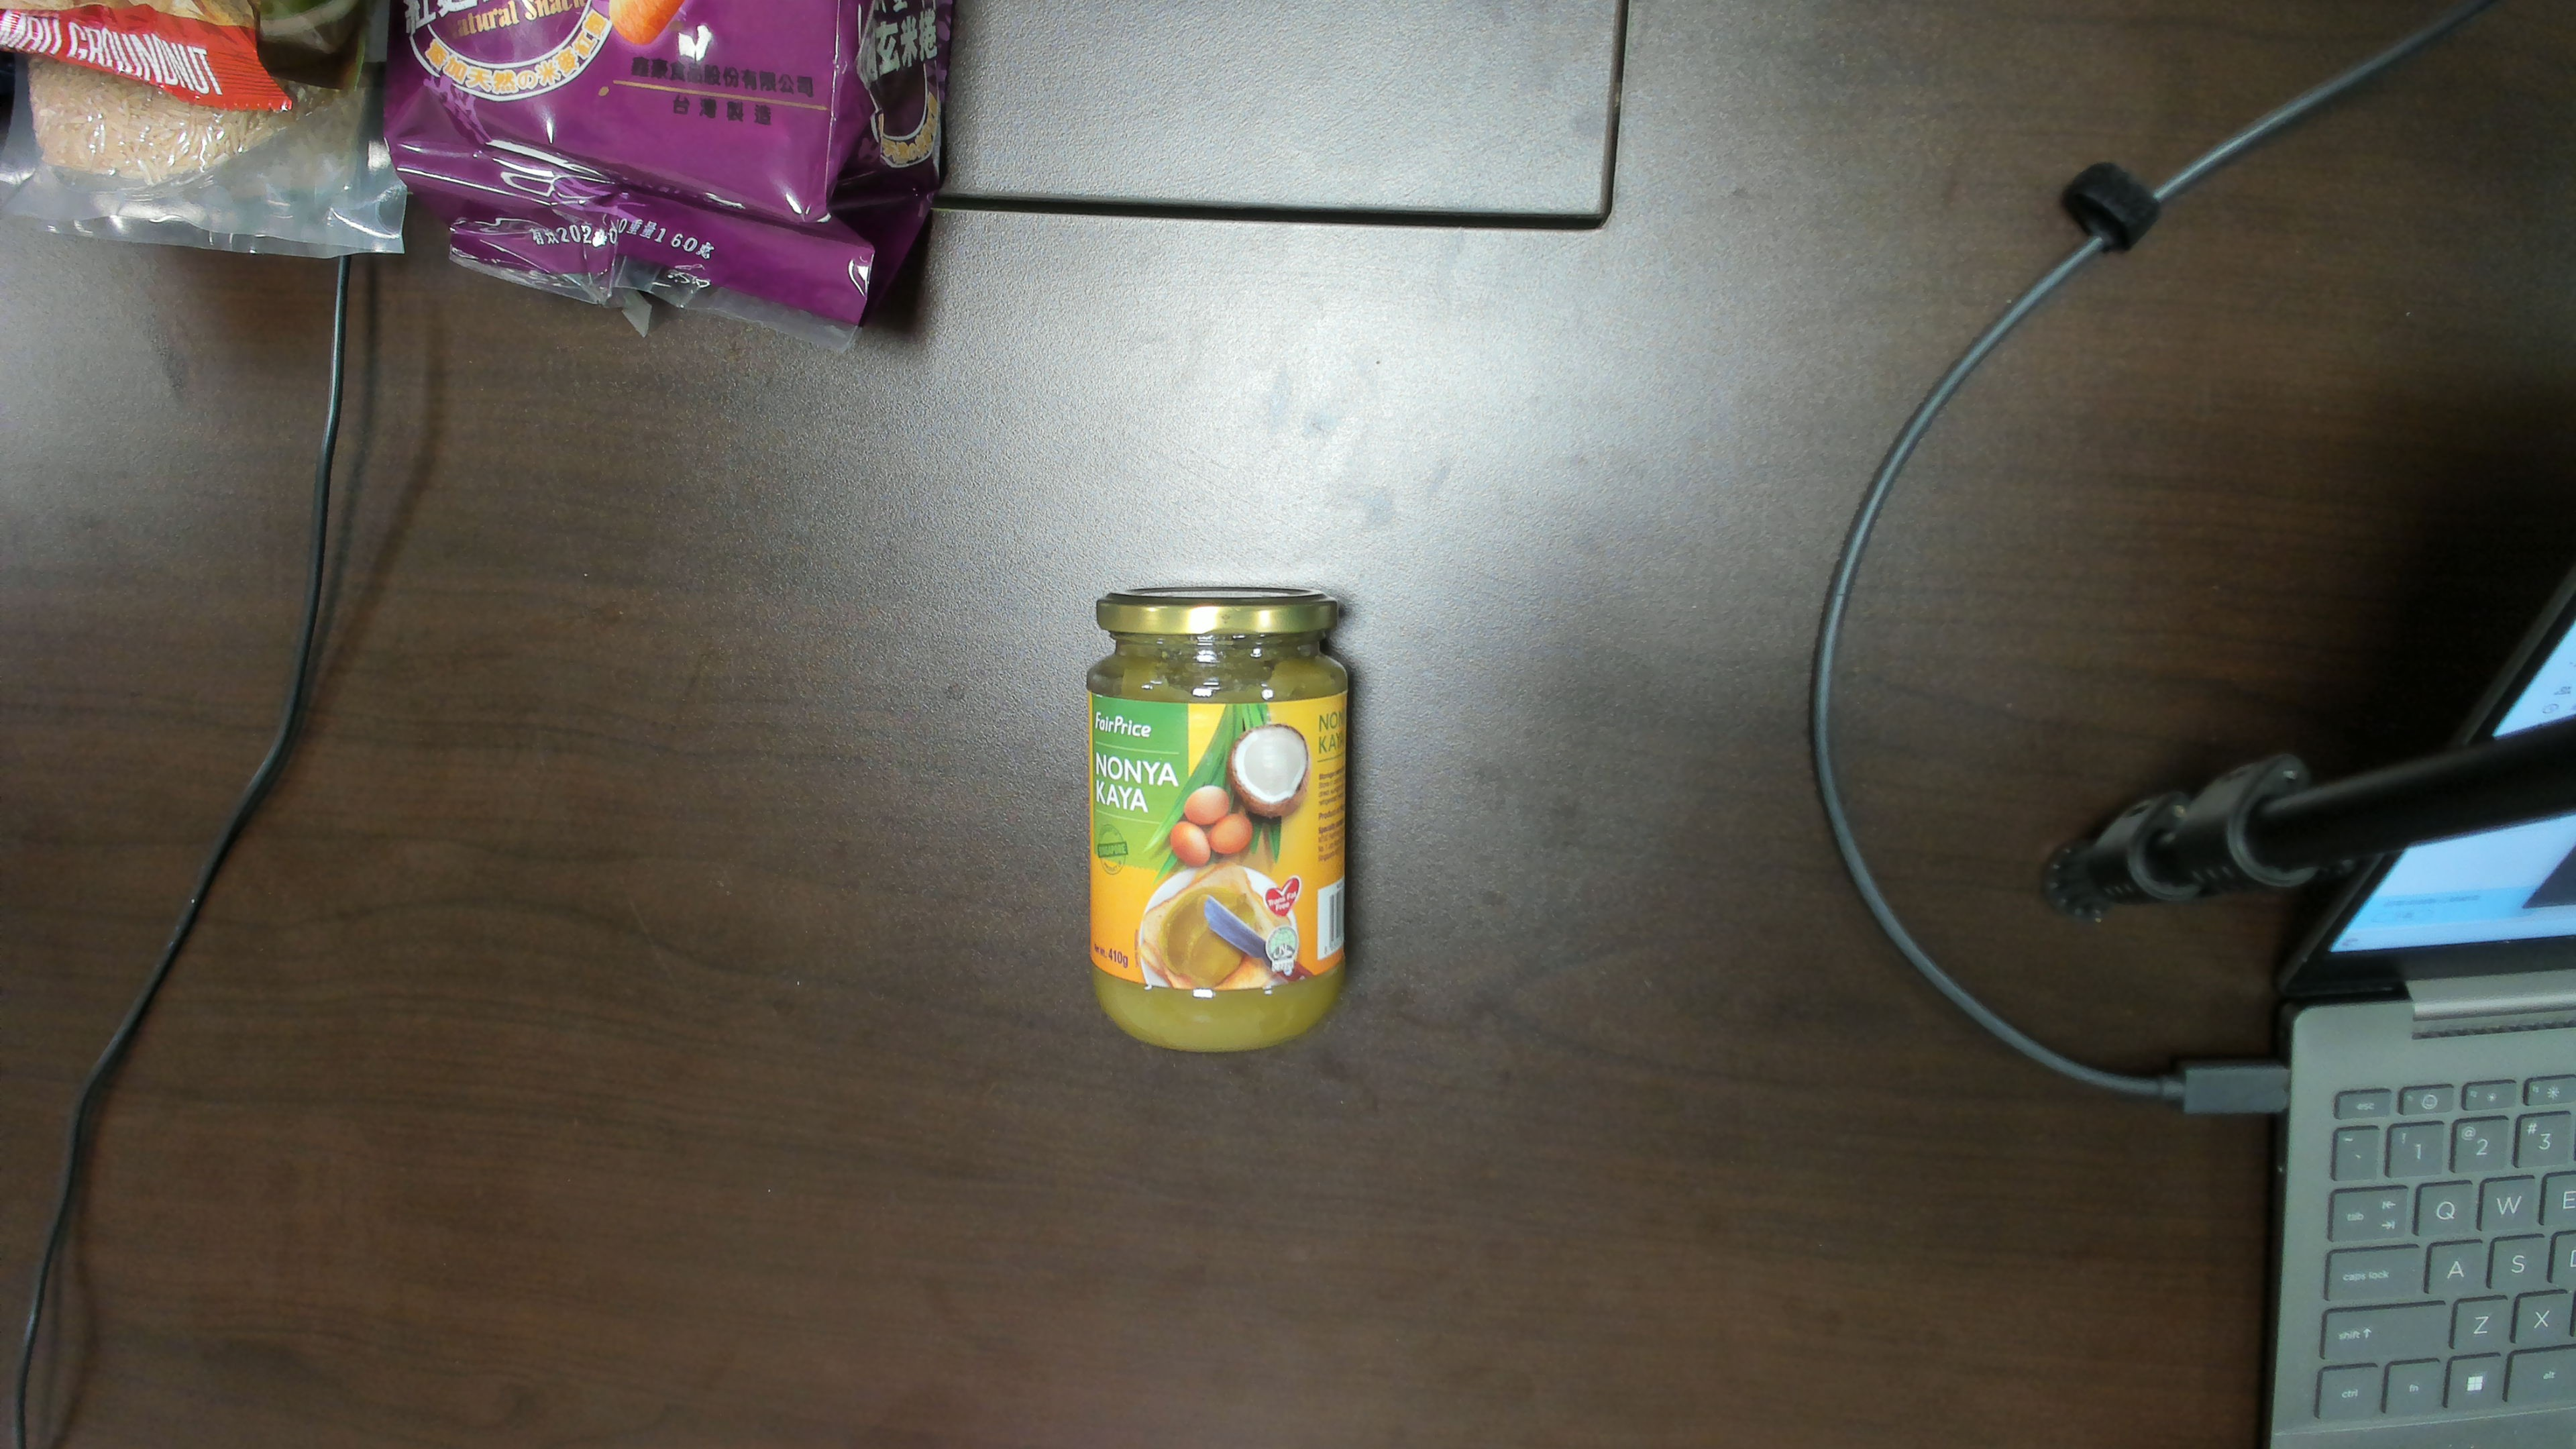Kaya_400-499g_Halal_NonHealthy: (1093, 694, 1332, 982)
